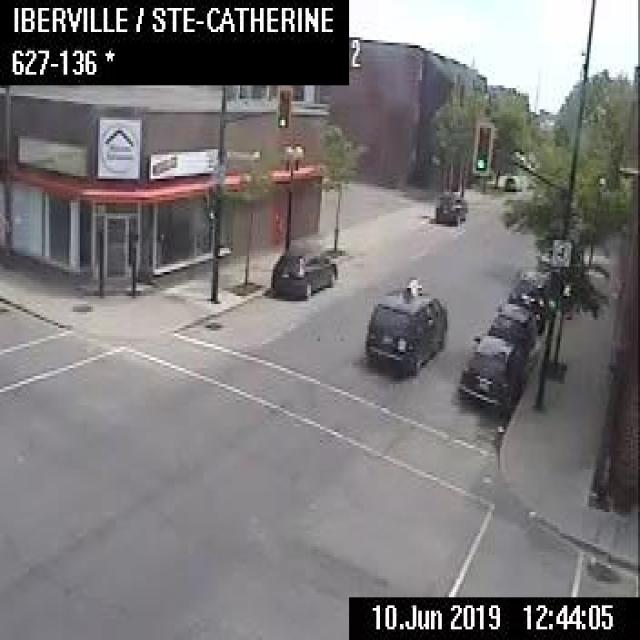vehicle: (362, 275, 447, 374), (456, 332, 520, 414), (269, 248, 337, 299), (486, 299, 539, 363), (506, 266, 549, 334), (435, 190, 466, 222), (502, 172, 521, 190)
